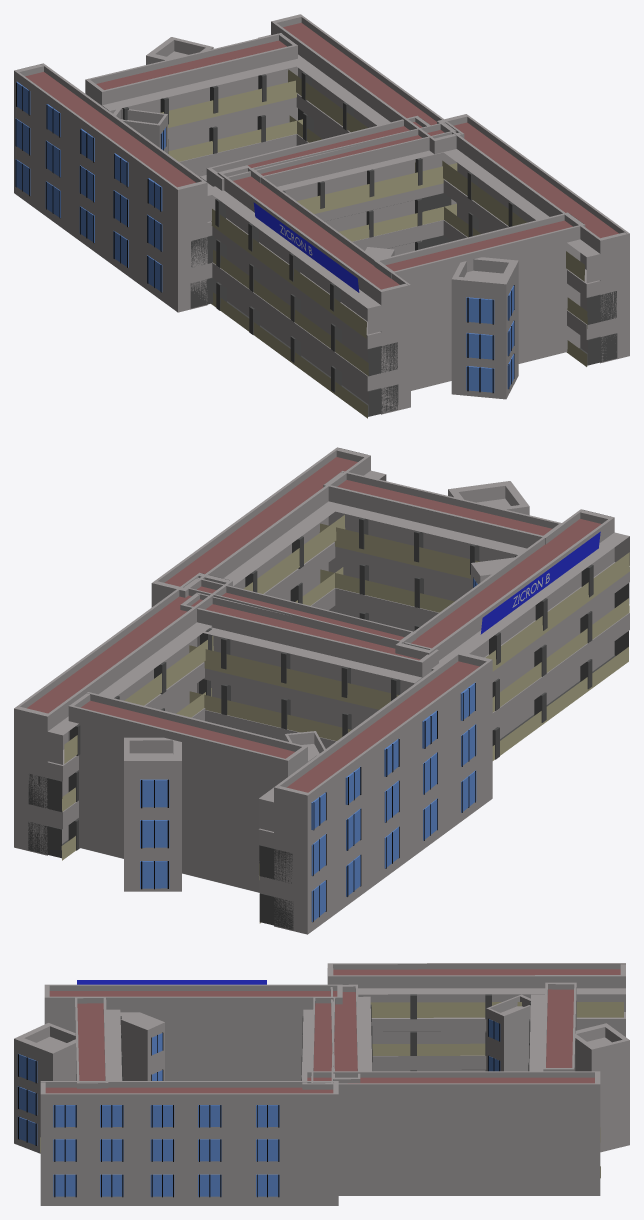
File: zicronB.glb
3 renders of one model, top to bottom at view 1: azimuth 30°, elevation 25°; view 2: azimuth 150°, elevation 25°; view 3: azimuth 270°, elevation 25°, orthographic. The views are drawn at different scales.
Parts seen in each view (by area): view 1: Cube.201, Cube.001, Cube.013, Cube.003, Cube.008, Cube.014, Cube.007, Cube.042, Cube.012, Plane, Cube, Cube.049 (+3 smaller); view 2: Cube.001, Cube.201, Cube.003, Cube.007, Cube.012, Cube.008, Cube.013, Cube.049, Cube.014, Plane, Cube.042, Cube.050 (+2 smaller); view 3: Cube.007, Cube.013, Cube.001, Cube.201, Cube.049, Cube.003, Cube.008, Cube.042, Cube.012, Cube, Cube.009, Cube.014 (+19 smaller).
Boxes of the visible parts, bbox=[...] form: Cube.201: bbox=[207, 165, 410, 418]; Cube.001: bbox=[14, 63, 217, 312]; Cube.013: bbox=[437, 114, 629, 366]; Cube.003: bbox=[85, 33, 305, 176]; Cube.008: bbox=[374, 212, 585, 390]; Cube.014: bbox=[249, 122, 457, 255]; Cube.007: bbox=[258, 14, 464, 248]; Cube.042: bbox=[451, 257, 518, 399]; Cube.012: bbox=[200, 115, 430, 190]; Plane: bbox=[253, 202, 359, 292]; Cube: bbox=[113, 108, 167, 153]; Cube.049: bbox=[146, 37, 213, 64]; Cube.001: bbox=[258, 651, 492, 934]; Cube.201: bbox=[395, 509, 629, 760]; Cube.003: bbox=[68, 692, 316, 892]; Cube.007: bbox=[14, 572, 232, 860]; Cube.012: bbox=[180, 592, 438, 748]; Cube.008: bbox=[319, 471, 564, 631]; Cube.013: bbox=[151, 447, 386, 610]; Cube.049: bbox=[124, 737, 181, 891]; Cube.014: bbox=[183, 577, 416, 648]; Plane: bbox=[480, 531, 600, 634]; Cube.042: bbox=[448, 481, 529, 515]; Cube.050: bbox=[140, 779, 169, 808]; Cube.007: bbox=[302, 1071, 600, 1195]; Cube.013: bbox=[40, 1081, 338, 1205]; Cube.001: bbox=[327, 963, 625, 1071]; Cube.201: bbox=[44, 984, 342, 1080]; Cube.049: bbox=[575, 1023, 629, 1152]; Cube.003: bbox=[528, 982, 576, 1071]; Cube.008: bbox=[75, 996, 123, 1088]; Cube.042: bbox=[14, 1023, 75, 1153]; Cube.012: bbox=[330, 984, 372, 1083]; Cube: bbox=[486, 994, 530, 1071]; Cube.009: bbox=[120, 1012, 164, 1080]; Cube.014: bbox=[301, 996, 335, 1083].
Size of the model in its own units: 24.46 by 9.99 by 48.05.
